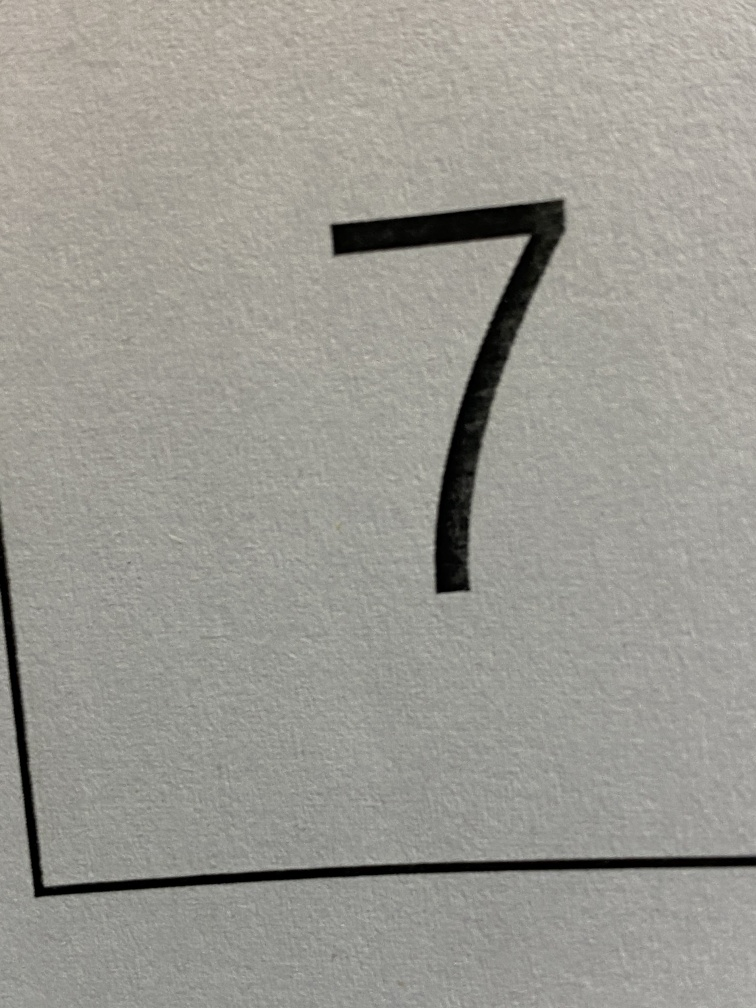seven: (269, 133, 657, 662)
